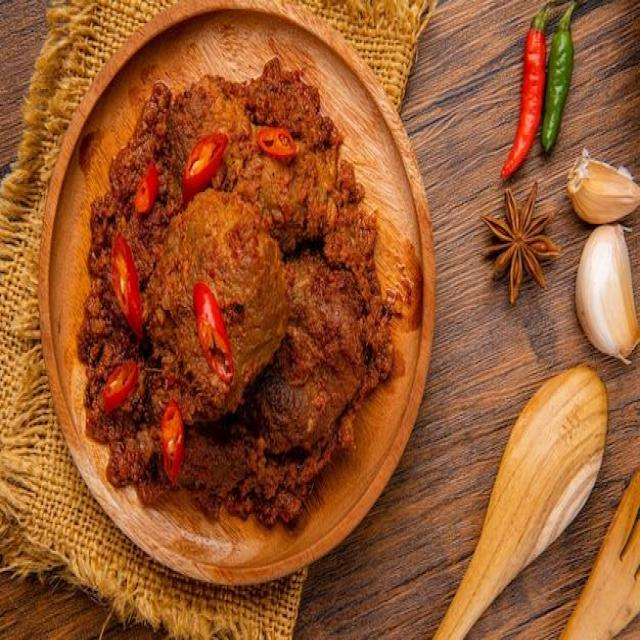Rendang: (62, 51, 416, 544)
